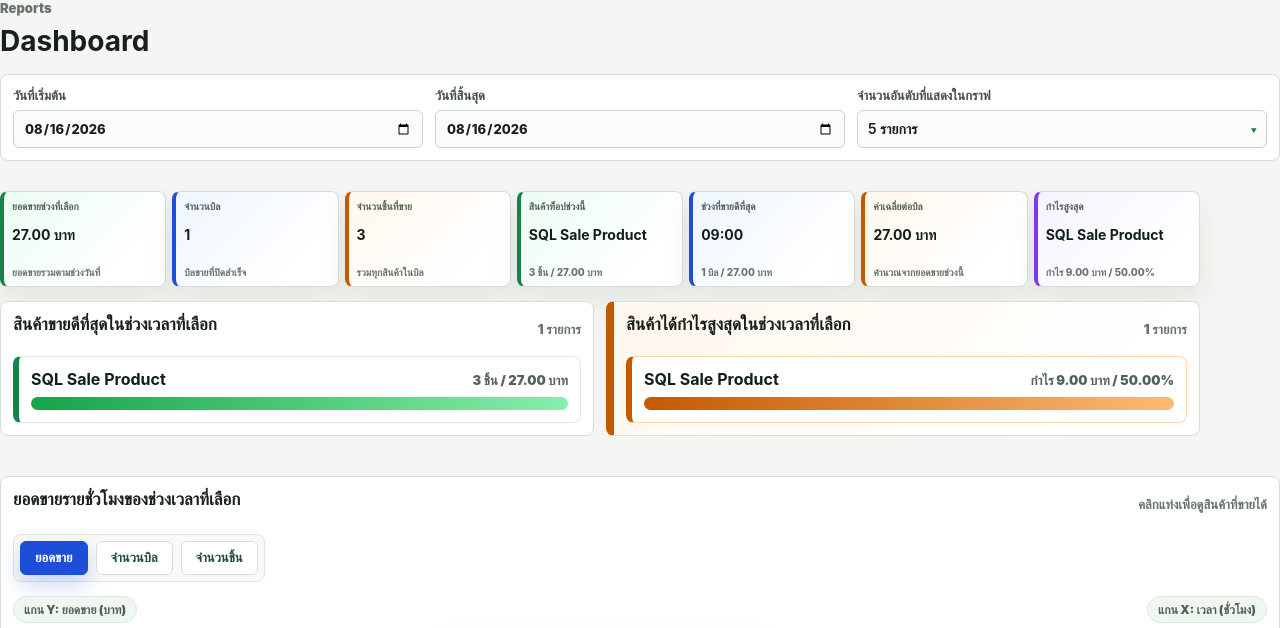
Test: backend connected report pages › sorts the selected-hour sold products by the chosen hourly metric and shows that metric value
Click the button "จำนวนชิ้น". click: (219,558)
box: left=180, top=541, right=258, bottom=575
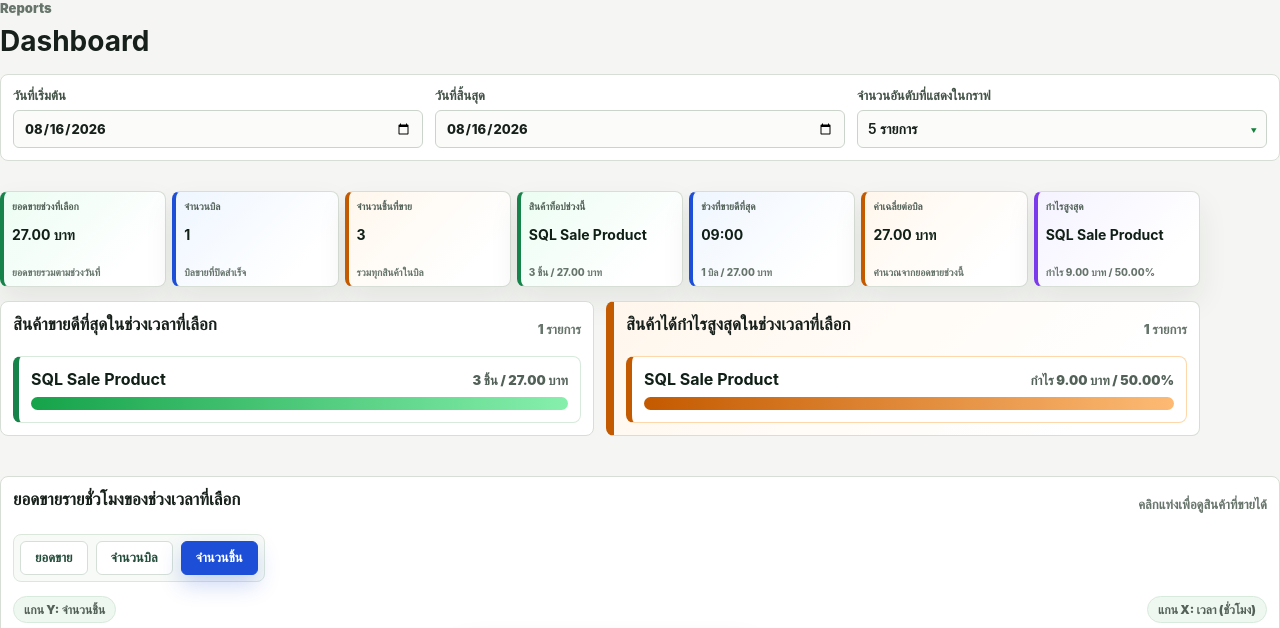
Click the button "จำนวนบิล". click: (134,558)
box: left=96, top=541, right=172, bottom=575
(page scrolled)
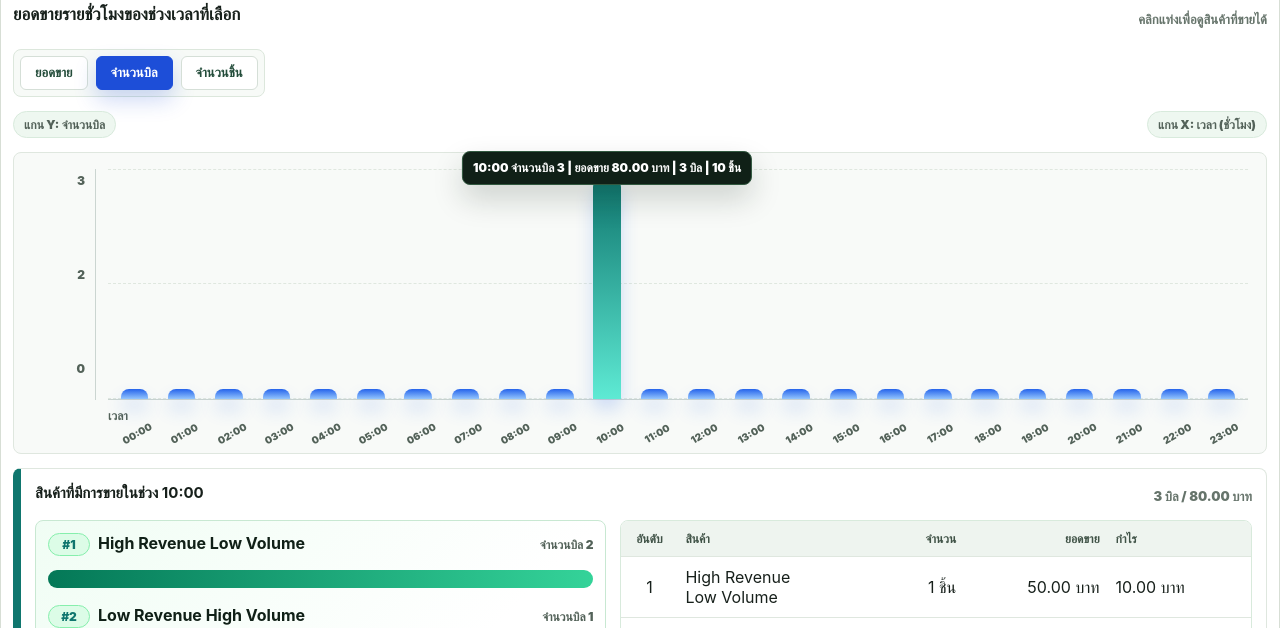
Check: the text "จำนวนบิล 1" is shown, box left=542, top=609, right=593, bottom=624
Check: the text "จำนวนบิล 2" is shown, box left=540, top=537, right=594, bottom=552
